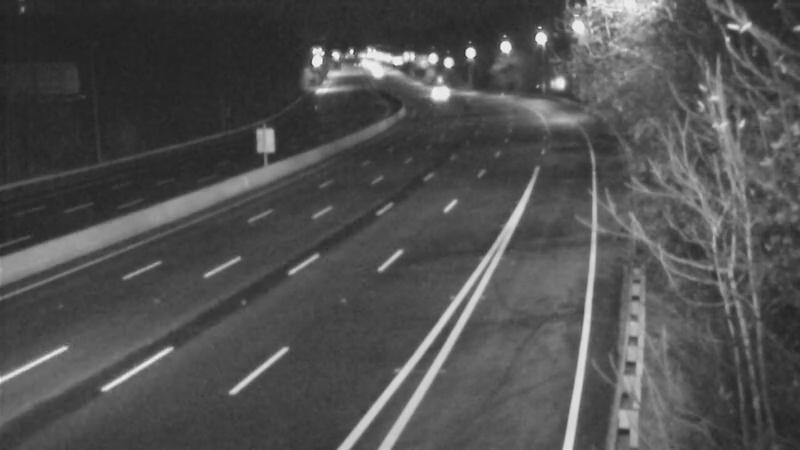vehicle: (409, 67, 459, 117)
